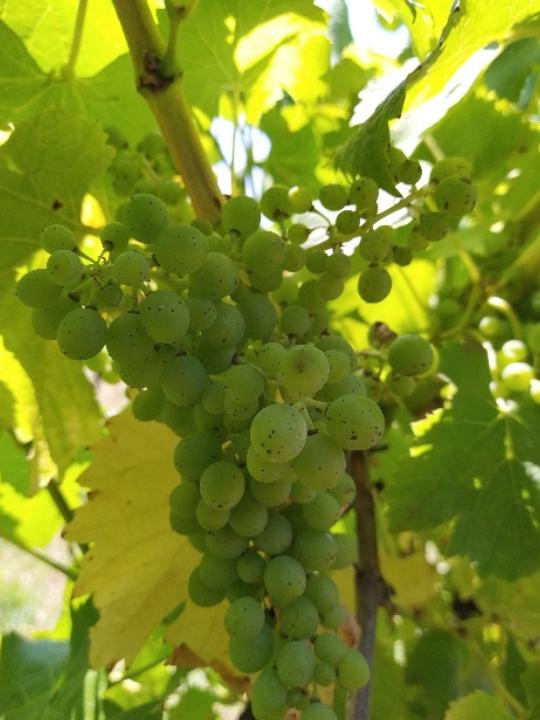grape: (11, 148, 478, 720)
